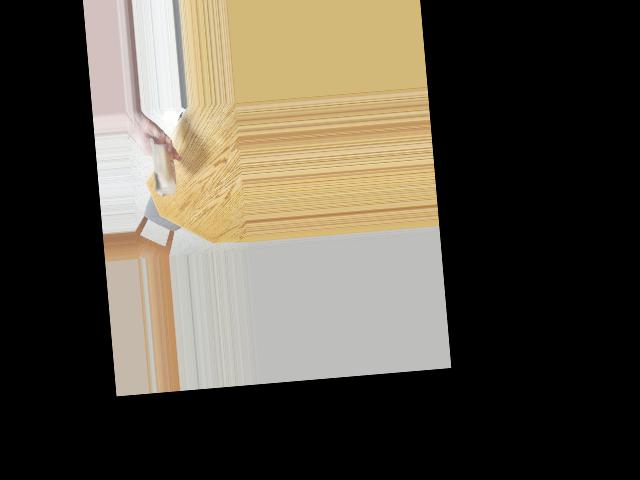cheese: (139, 139, 179, 193)
